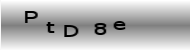8: (93, 22, 107, 36)
D: (62, 24, 79, 38)
P: (24, 9, 38, 24)
e: (112, 20, 126, 31)
t: (45, 21, 56, 33)
